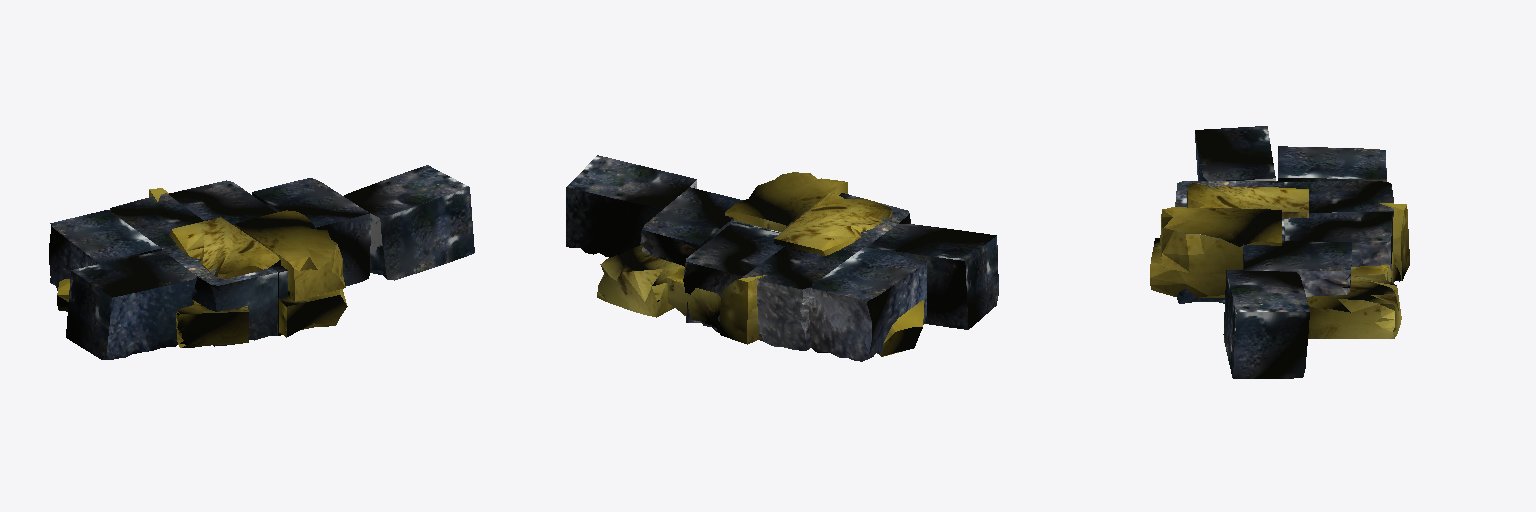
3 renders of one model, left to right at view 1: azimuth 30°, elevation 25°; view 2: azimuth 150°, elevation 25°; view 3: azimuth 270°, elevation 25°, orthographic.
Parts seen in each view (by area): view 1: Dropped_Onion_avocado; view 2: Dropped_Onion_avocado; view 3: Dropped_Onion_avocado.
Boxes of the visible parts, x1,y1,x2,y2 form: Dropped_Onion_avocado: [49, 165, 474, 359]; Dropped_Onion_avocado: [566, 155, 998, 361]; Dropped_Onion_avocado: [1150, 126, 1409, 378].
Bounding box in the file's own units: 3 × 0.5683 × 1.74.
Materials: 2 (1 with a texture image).